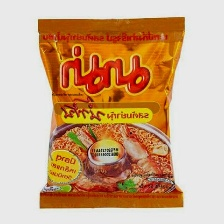snack: (28, 6, 198, 214)
